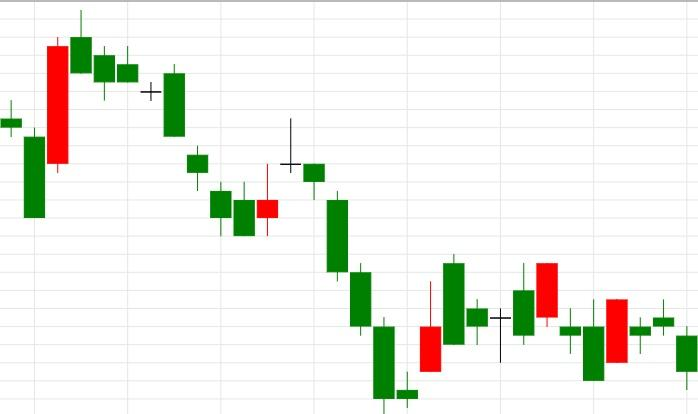three_black_crows_fall: (233, 118, 372, 337)
